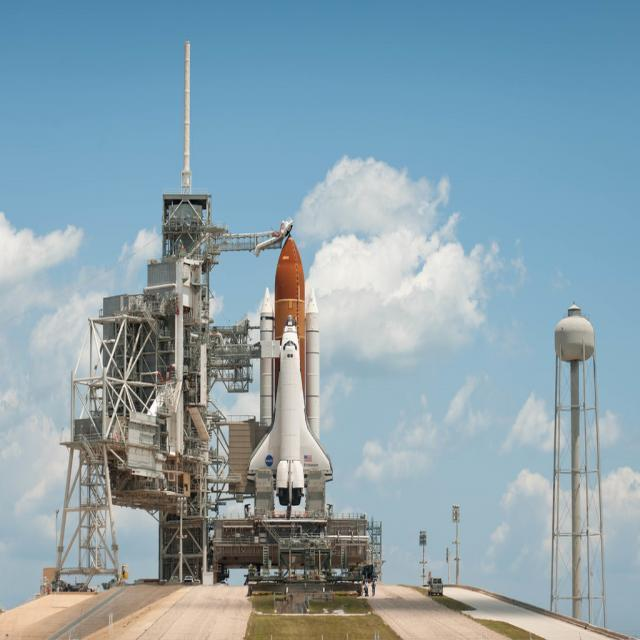missile: (301, 279, 322, 431), (257, 270, 275, 435)
